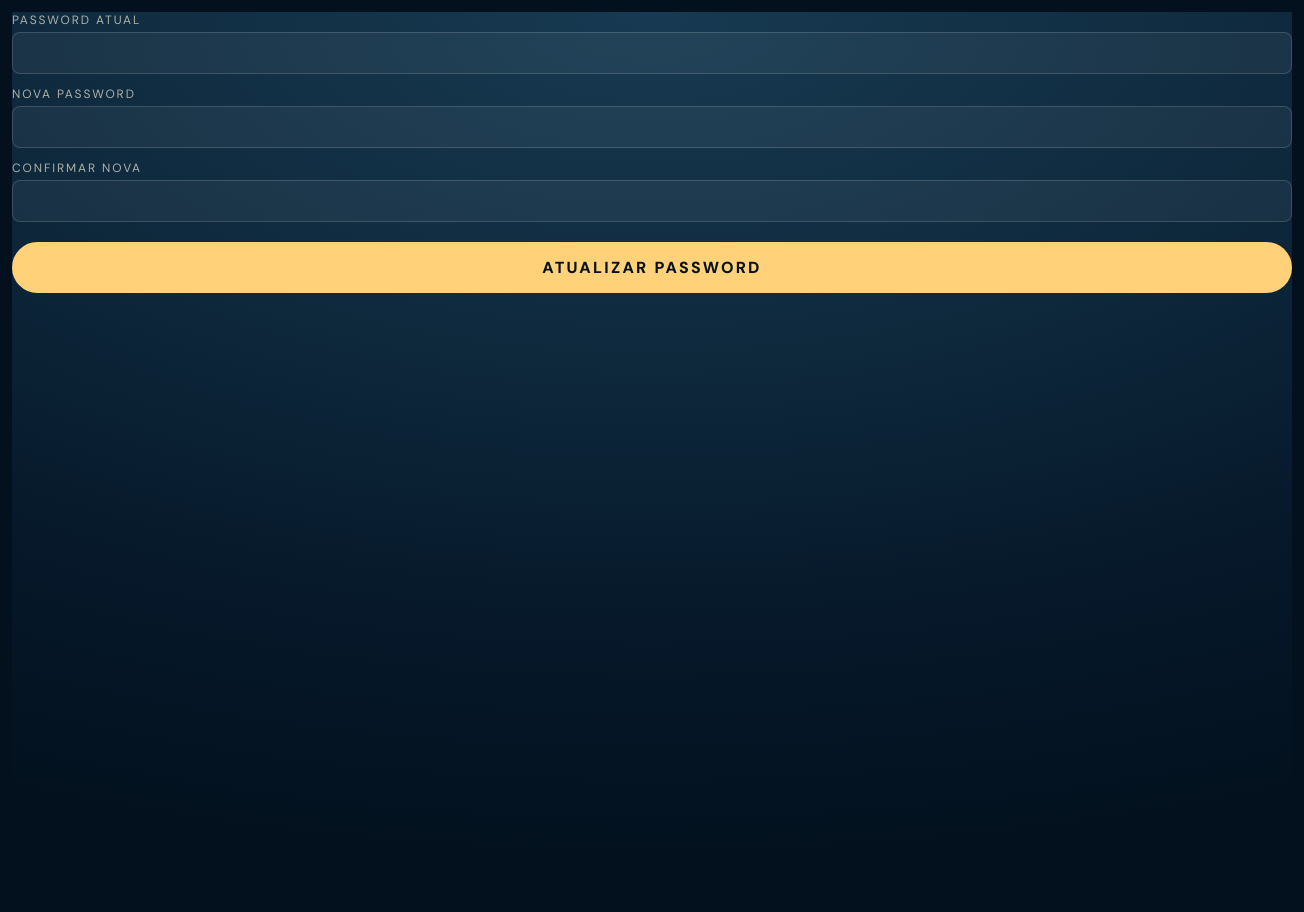
Test: AccountForm › erro: nova igual à atual
In the password field labelled "Password atual": (652, 53) [12,32,1292,74], type "same-password-12"
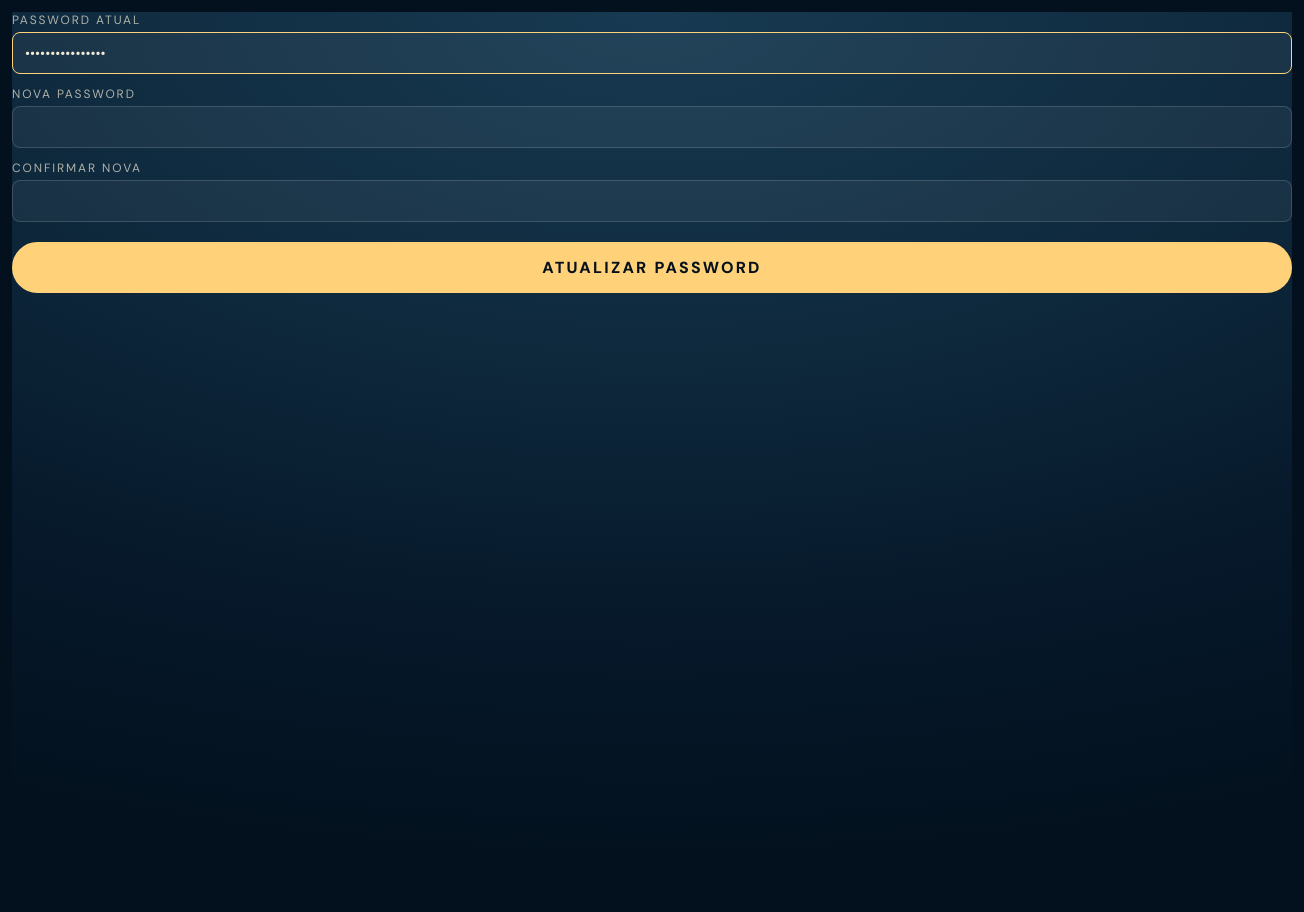
In the password field labelled "Nova password": (652, 127) [12,106,1292,148], type "same-password-12"
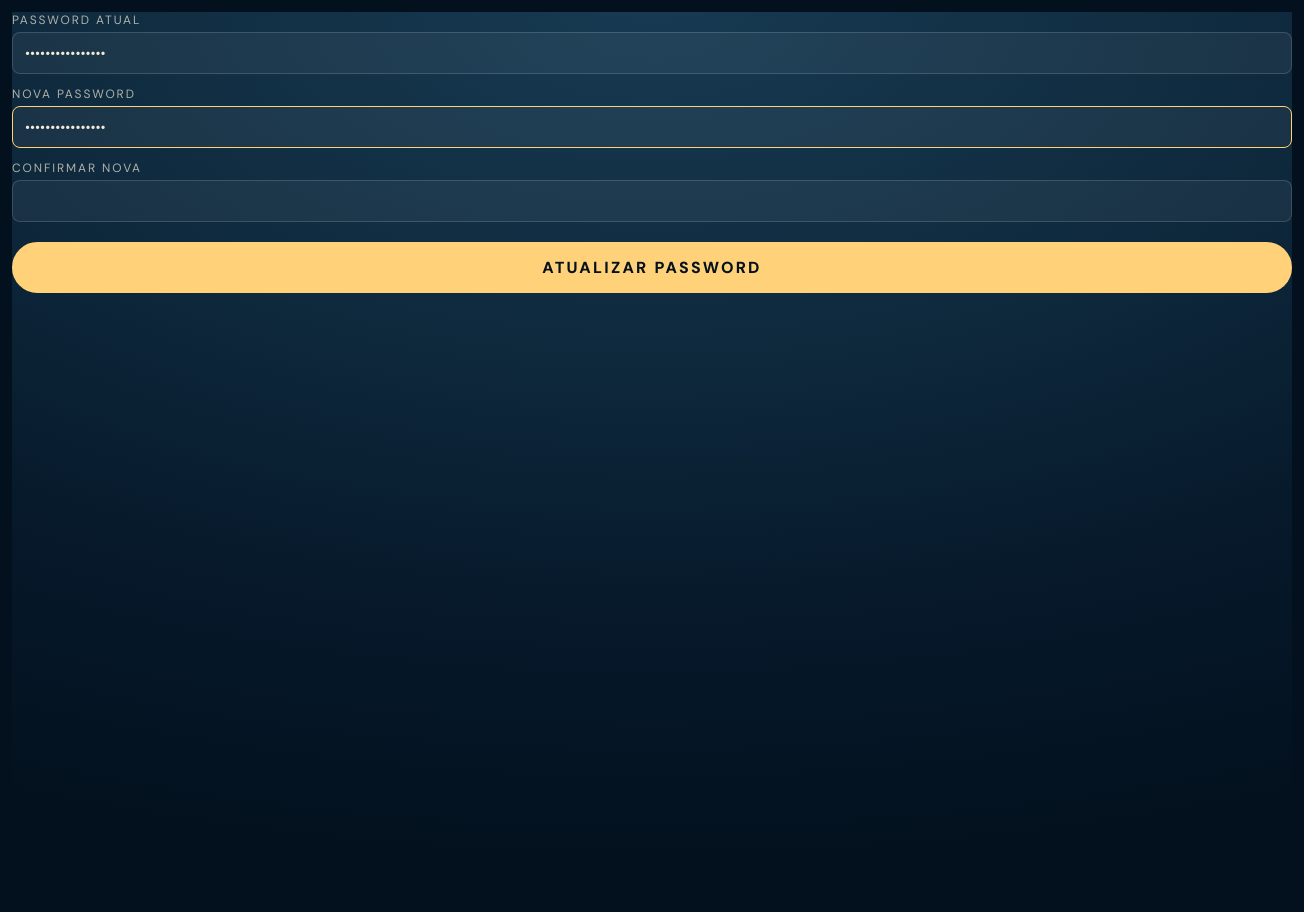
In the password field labelled "Confirmar nova": (652, 201) [12,180,1292,222], type "same-password-12"
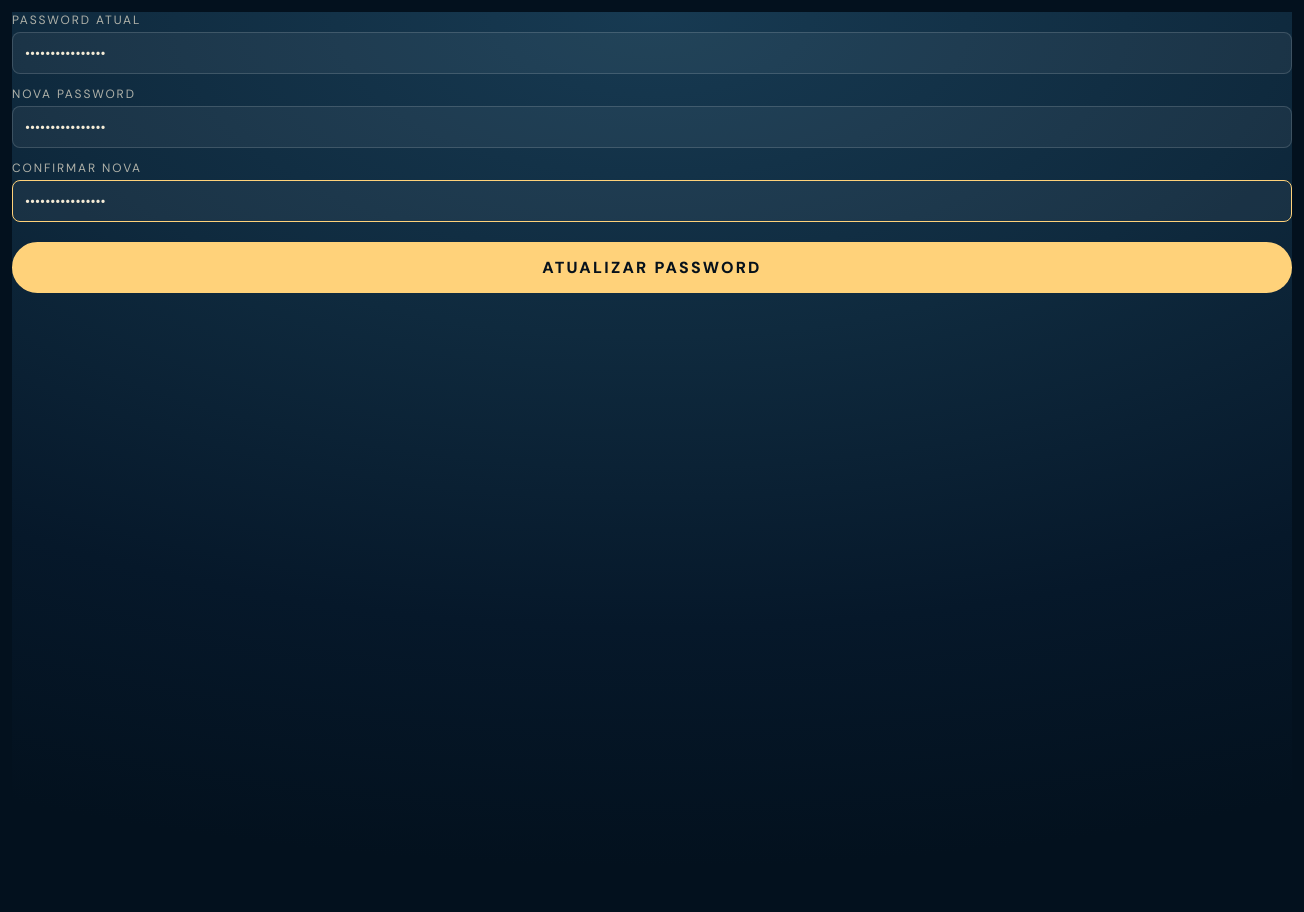
Click the button "ATUALIZAR PASSWORD": (652, 268) [12,242,1292,293]
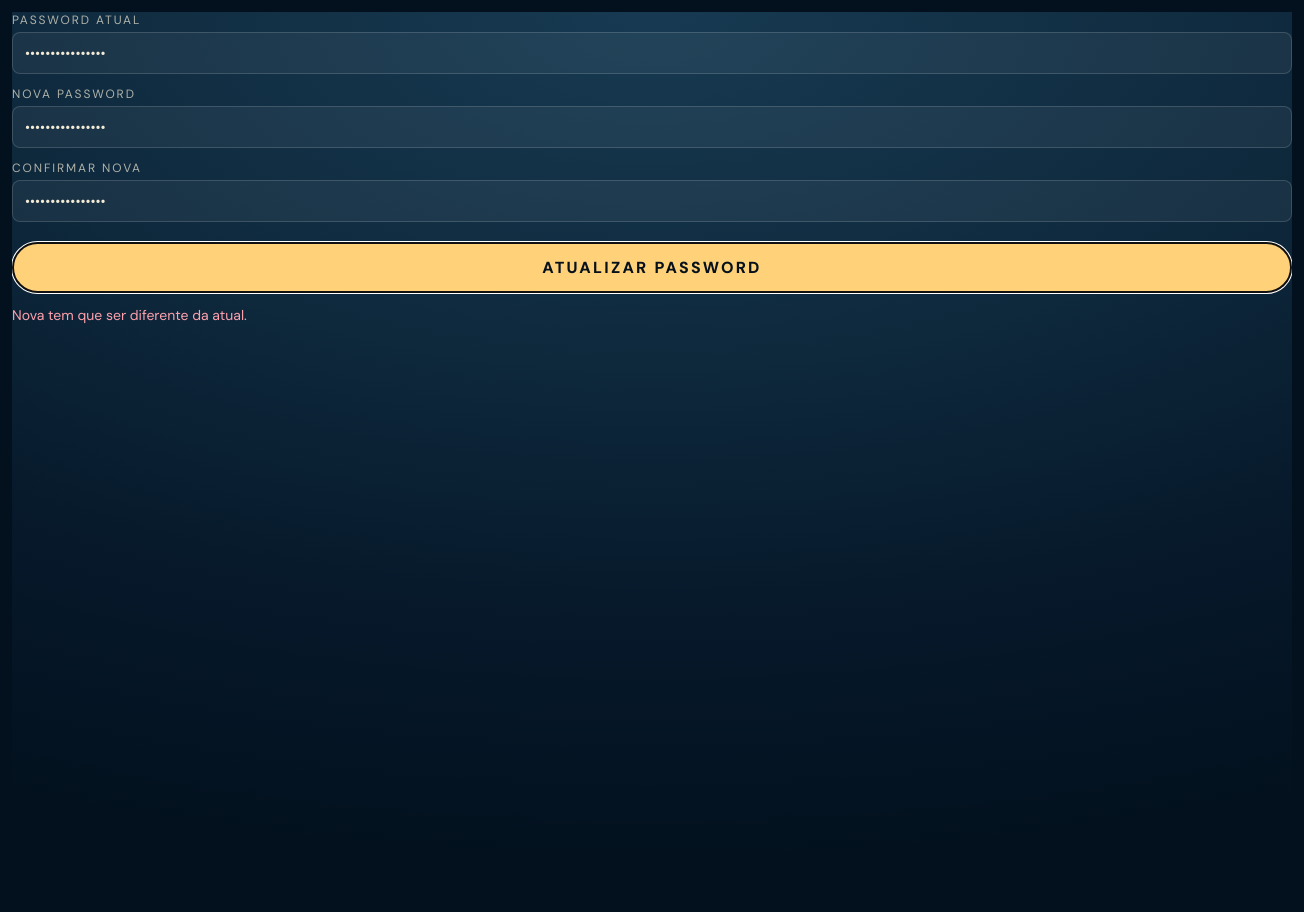
Result: the message shows "diferente" at [12,306,247,324]
